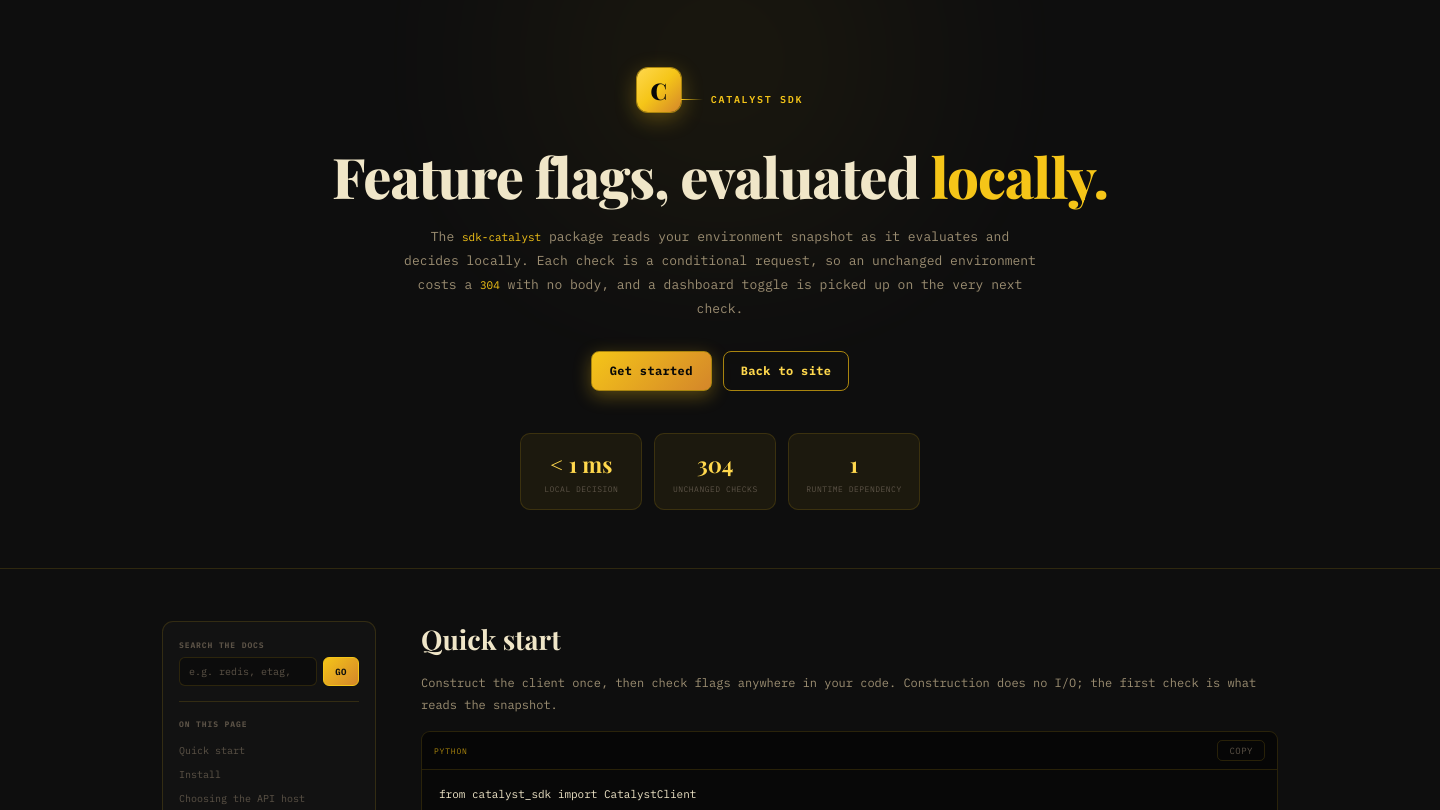
Test: DocsPage search › clears the search with Escape
Type "redis" into the search field at (248,672), box [179, 657, 317, 686]
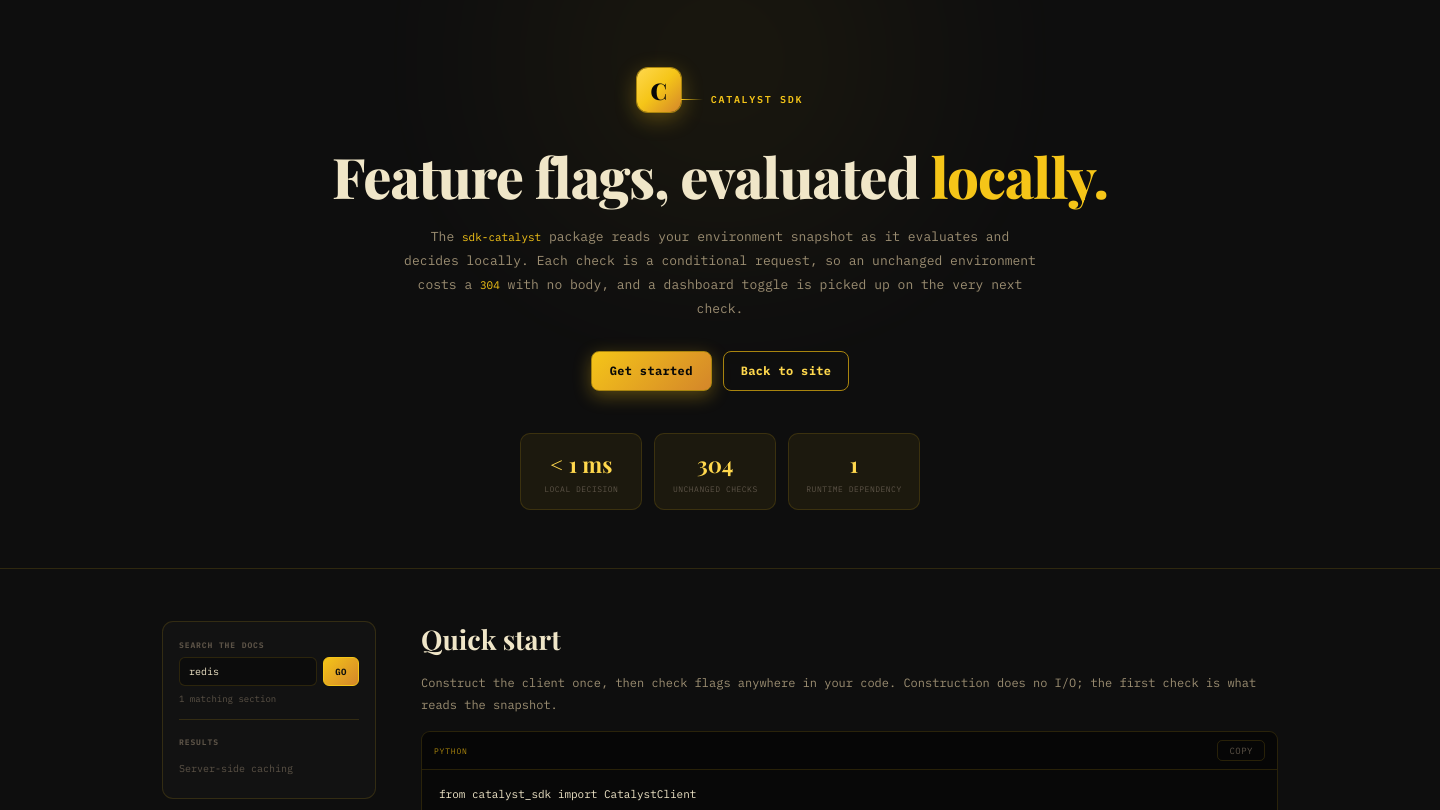
Press Escape in the search field, box [179, 657, 317, 686]
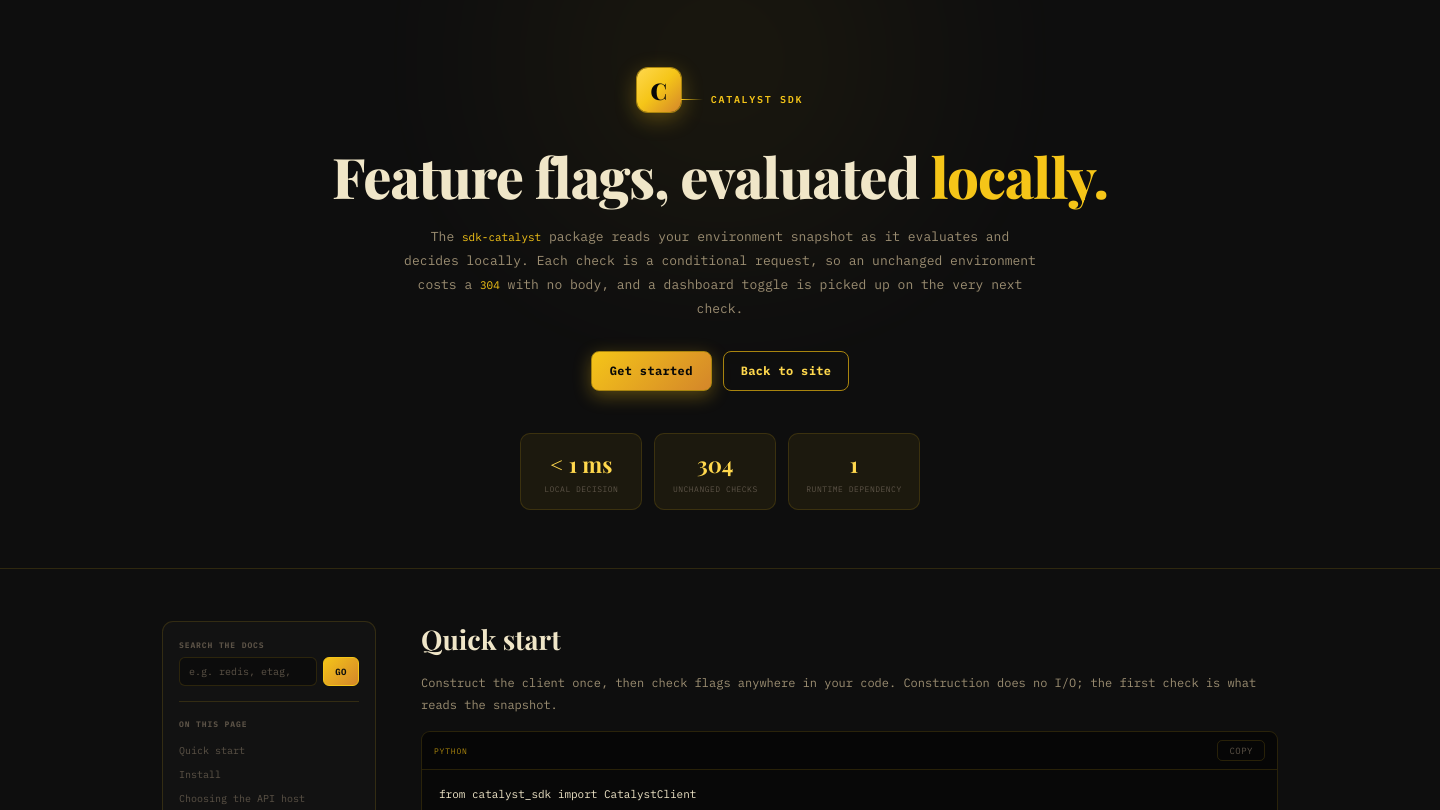
Expected: the text "On this page" is shown, [179, 719, 247, 729]
